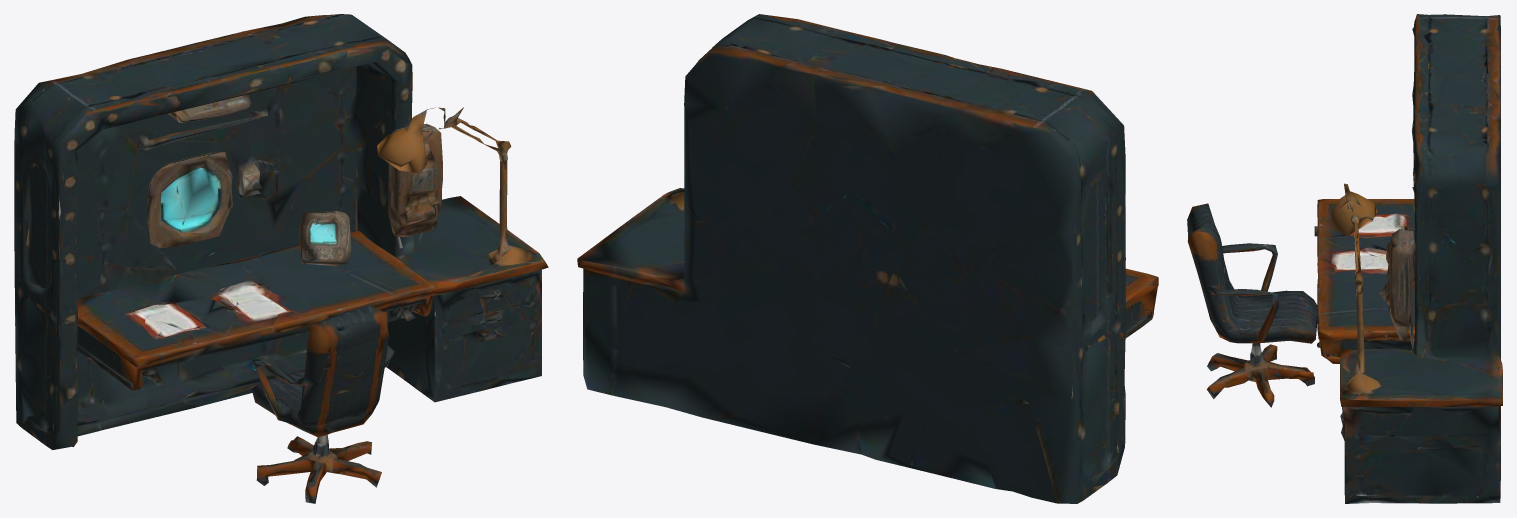
File: captain_desk.glb
3 views of the same model, side by side, from view 1: azimuth 30°, elevation 25°; view 2: azimuth 150°, elevation 25°; view 3: azimuth 270°, elevation 25° (orthographic). The views are drawn at different scales.
Bounding box in the file's own units: 1.9 × 1.36 × 1.27.
1 material, 1 textured.
